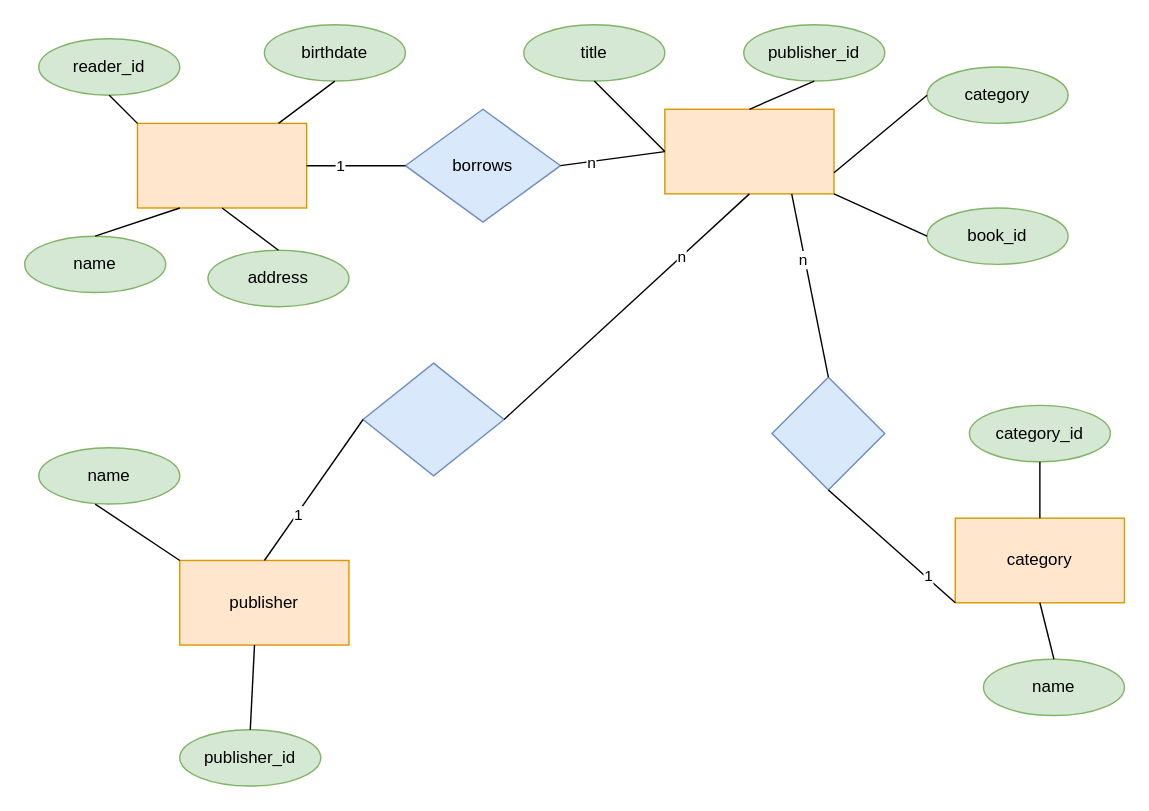
This 1149x811 diagram has some shape labels left out. Each missing label, with the box of its shape:
belongs to: (771, 376, 885, 490)
Book: (663, 108, 834, 194)
published by: (362, 362, 504, 476)
Reader: (136, 122, 307, 208)
